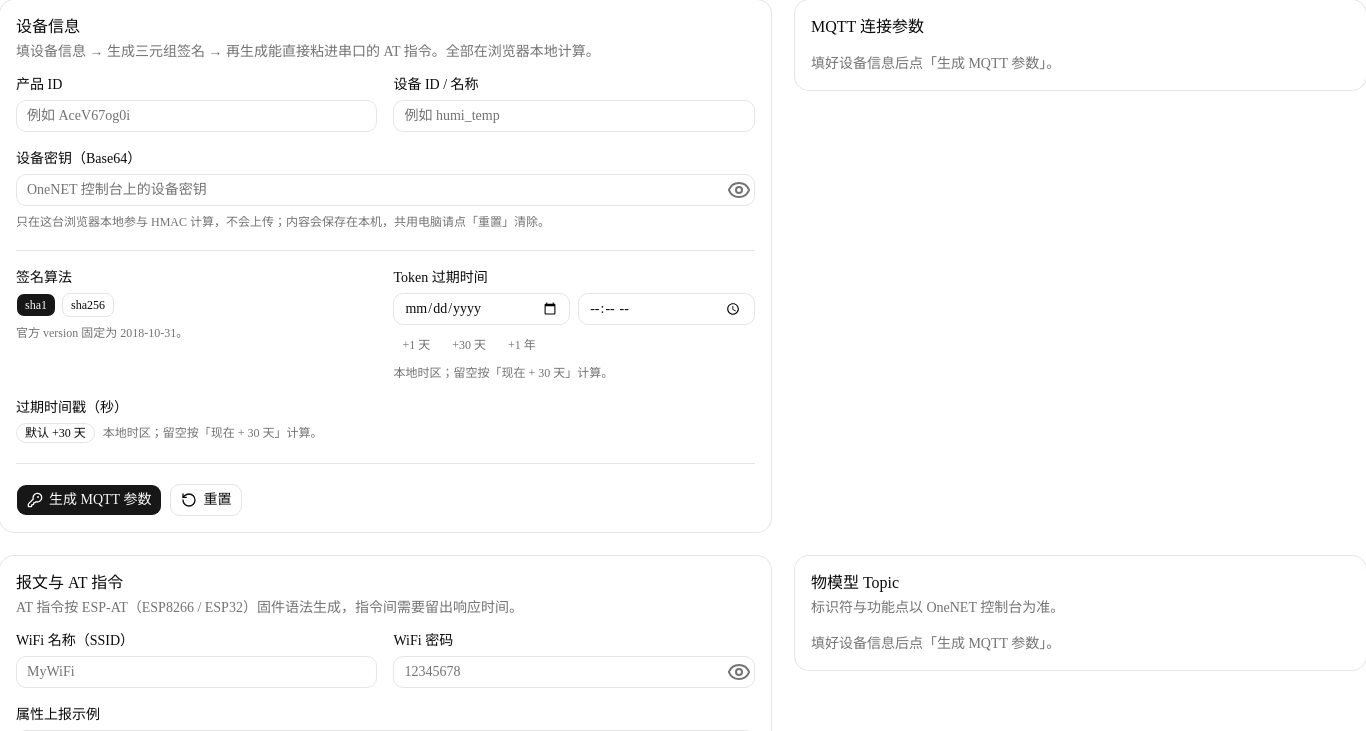
oneNet · 必填校验 › 设备密钥不是合法 Base64
The image size is (1366, 731).
In the field with id "onenet-product": (197, 116) [16,100,378,132], type "AceV67og0i"
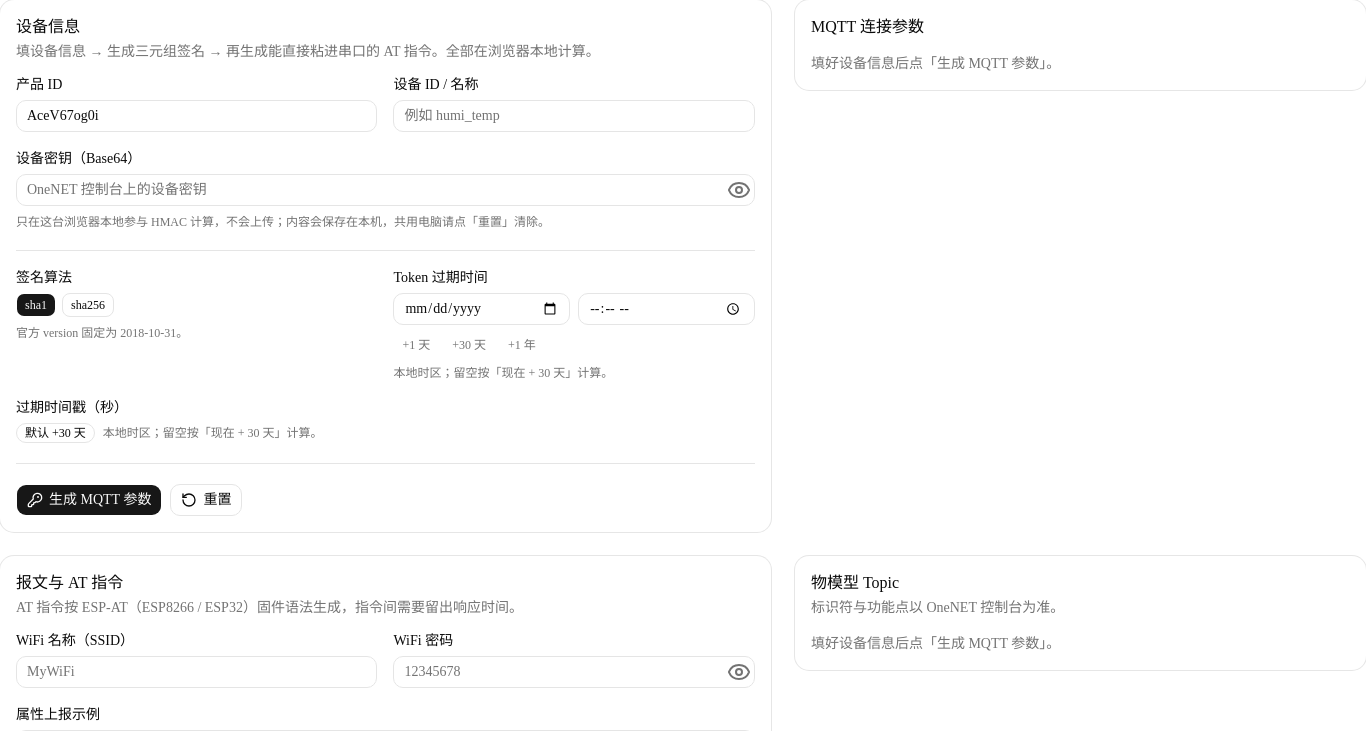
In the field with id "onenet-device": (574, 116) [394,100,755,132], type "humi_temp"
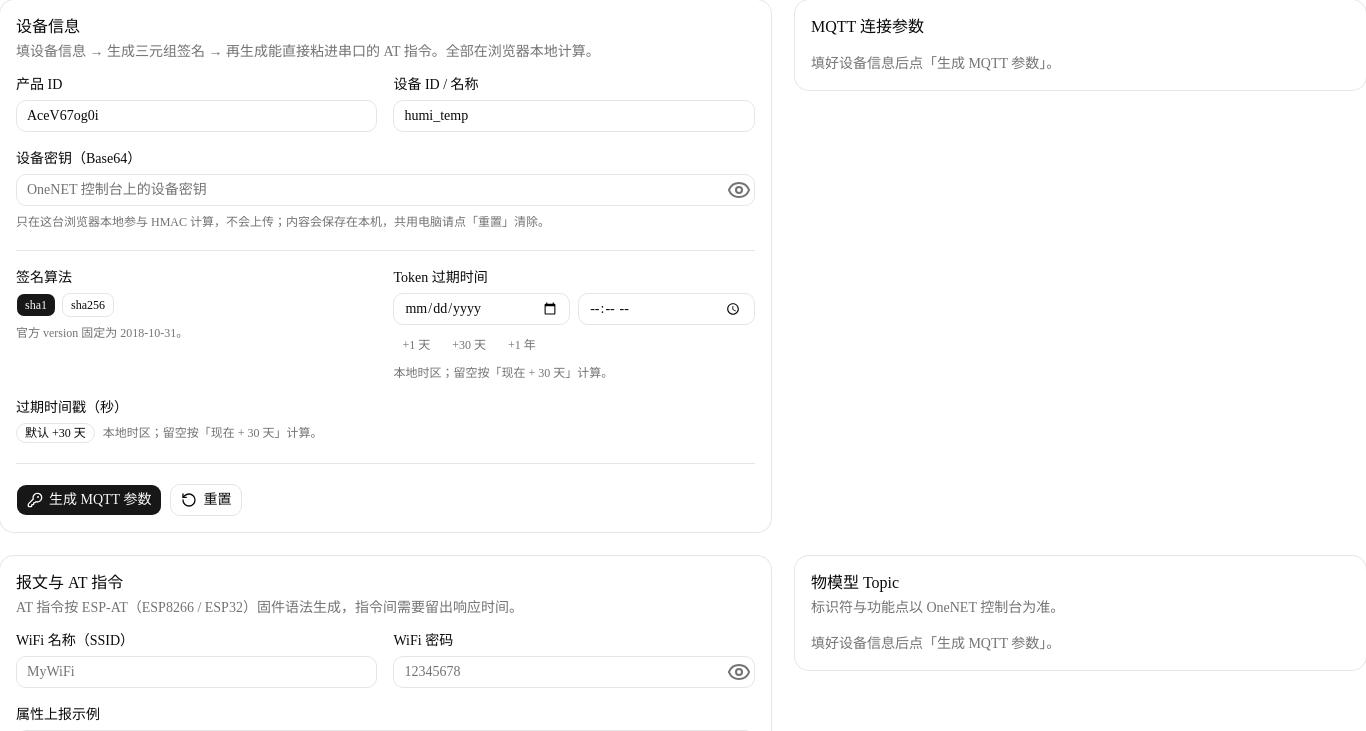
In the password field with id "onenet-key": (372, 190) [17,174,727,206], type "不是 base64!!"
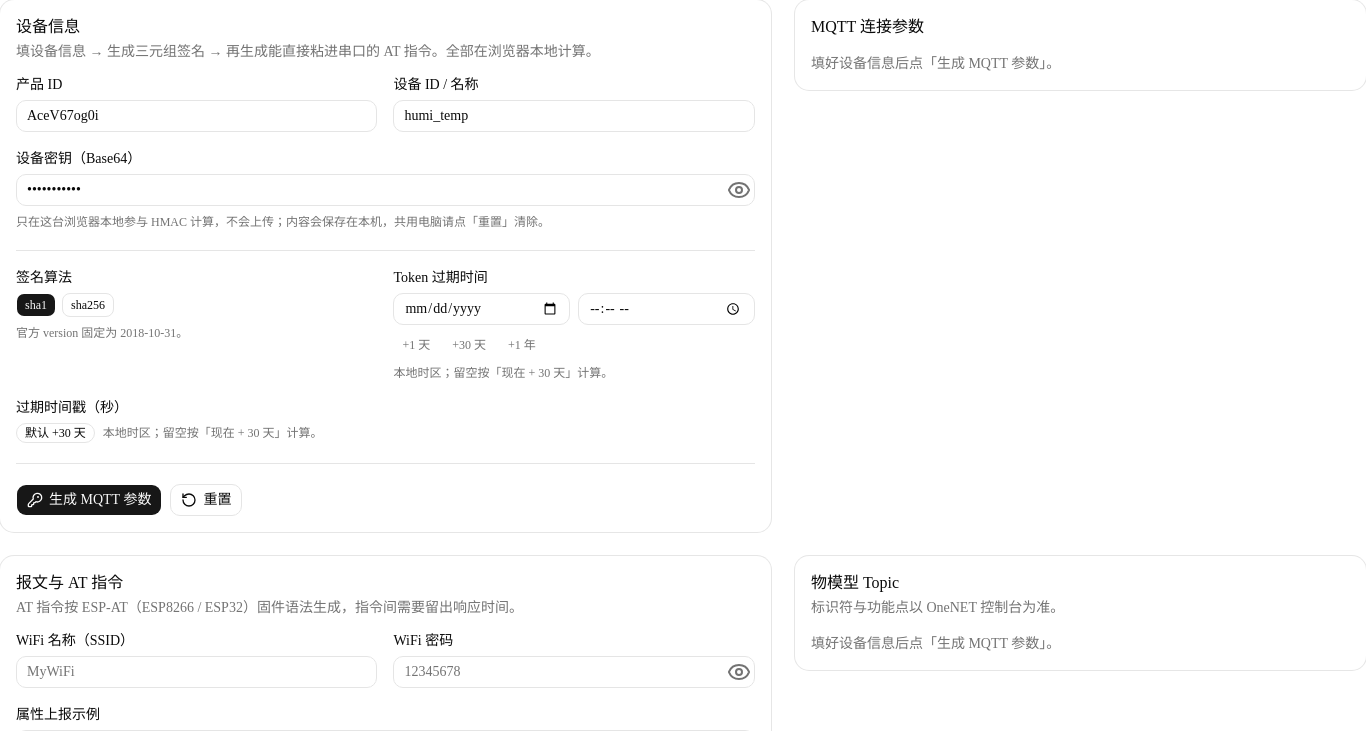
Click the button "生成 MQTT 参数": click(89, 500) [16,484,162,516]
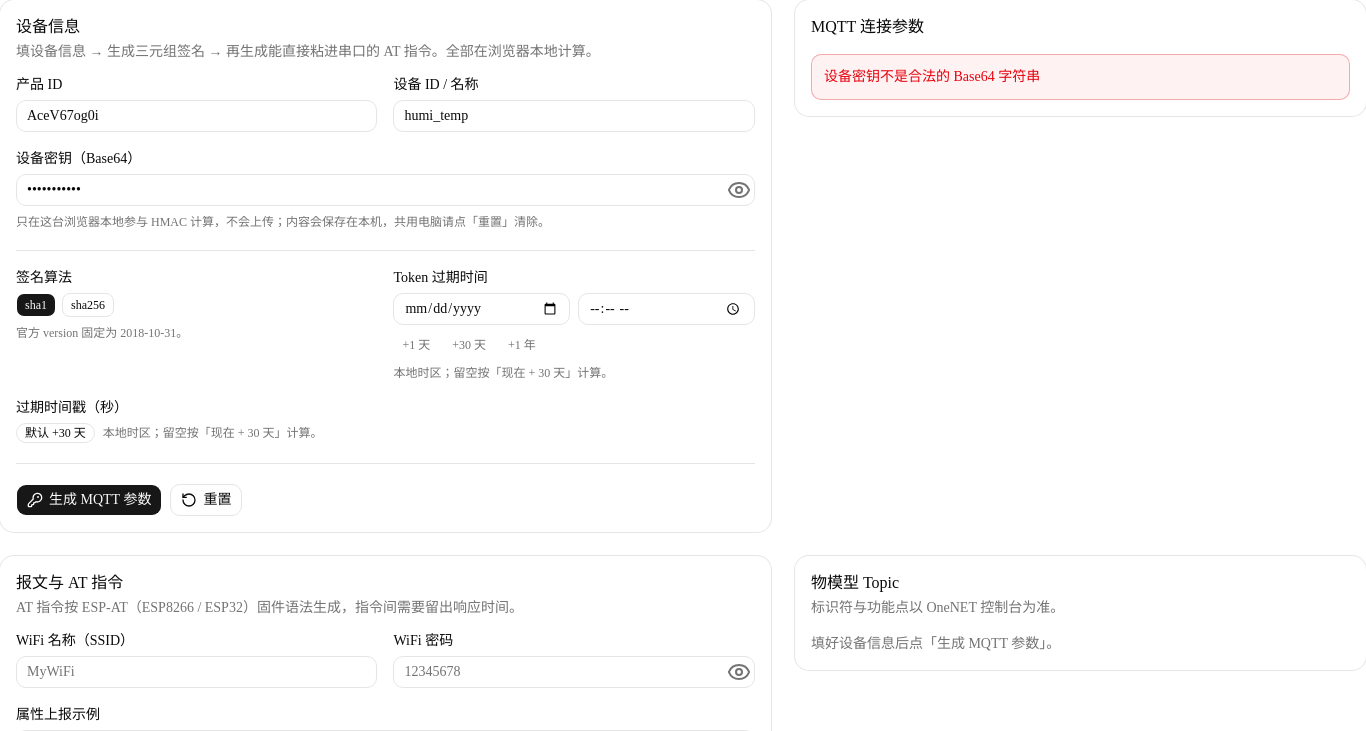
expect the text "设备密钥不是合法的 Base64 字符串" is shown: met, box [811,54,1350,100]
